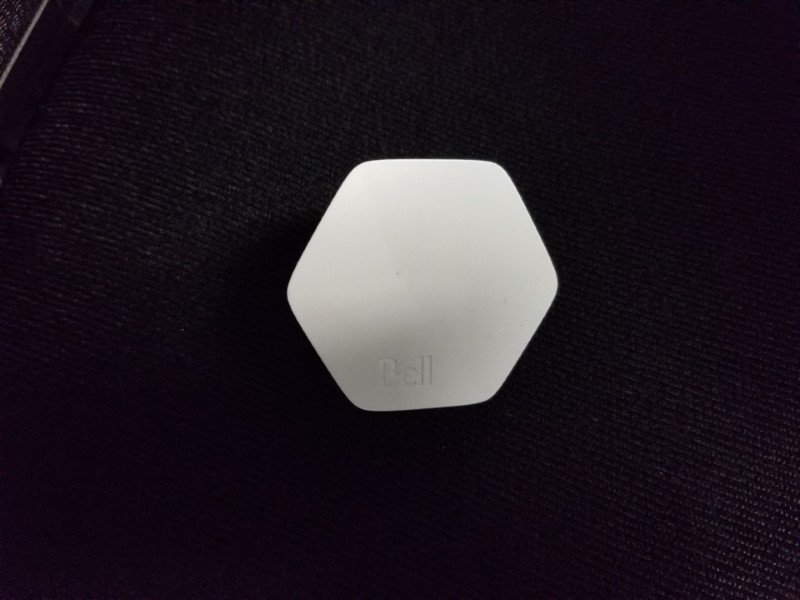pod: (283, 148, 565, 418)
